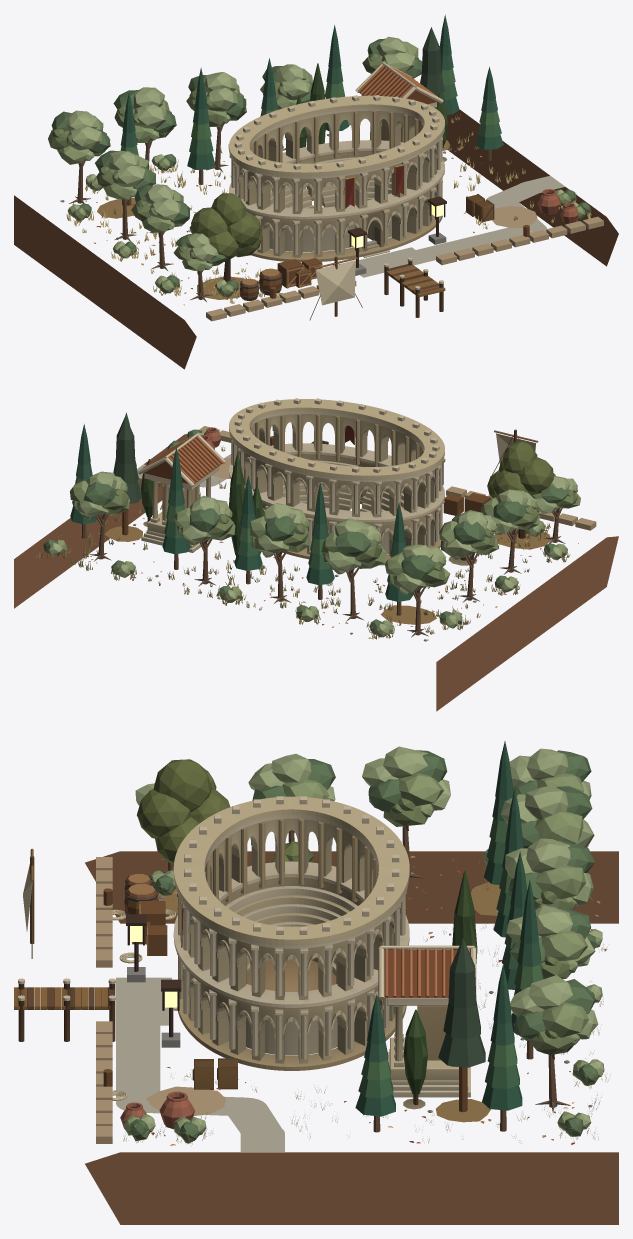
Rendered from rome.glb.
3 views of the same model, one above another, from view 1: azimuth 30°, elevation 25°; view 2: azimuth 150°, elevation 25°; view 3: azimuth 270°, elevation 25° (orthographic). The views are drawn at different scales.
Parts seen in each view (by area): view 1: rome; view 2: rome; view 3: rome.
Part boxes in pixels (bbox=[...]): rome: bbox=[14, 14, 618, 369]; rome: bbox=[14, 398, 618, 711]; rome: bbox=[14, 741, 618, 1224].
Size of the model in its own units: 8 by 3.12 by 6.79.
